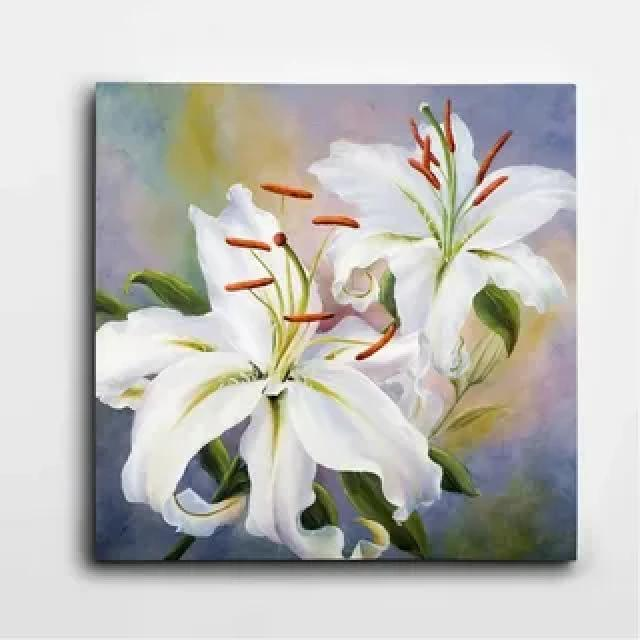lily: (93, 182, 449, 548)
